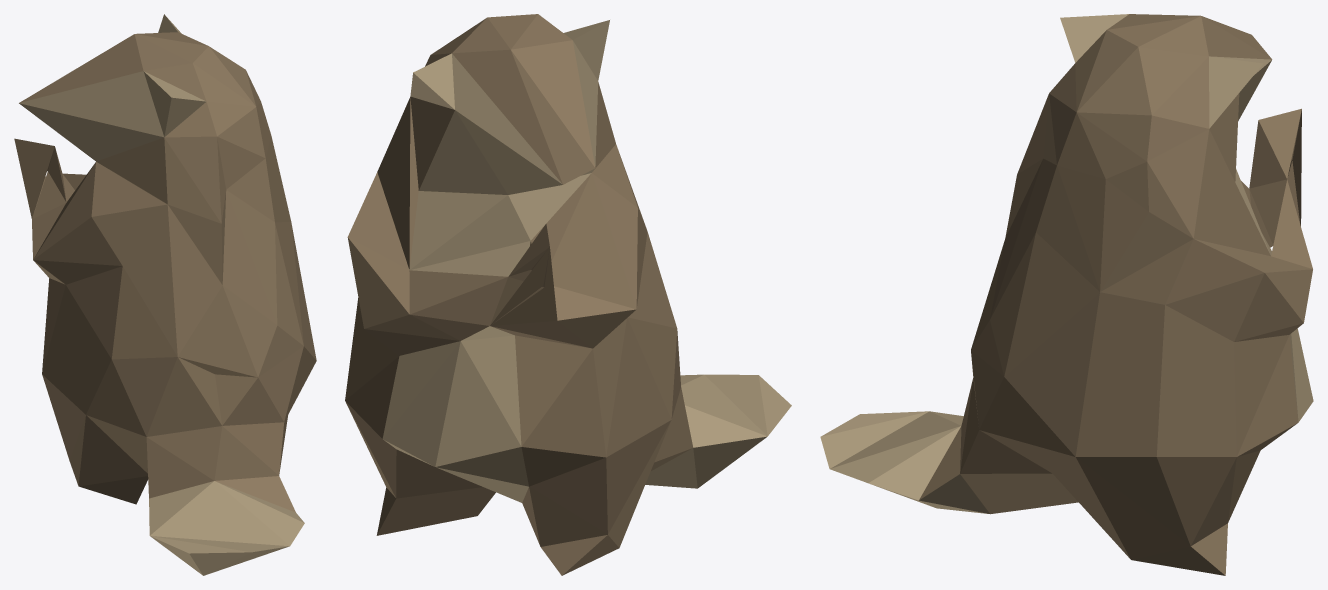
The picture shows the model from 3 angles, left to right: view 1: azimuth 30°, elevation 25°; view 2: azimuth 150°, elevation 25°; view 3: azimuth 270°, elevation 25°; orthographic projection. The views are drawn at different scales.
Parts seen in each view (by area): view 1: lion-200.001; view 2: lion-200.001; view 3: lion-200.001.
Boxes of the visible parts, x1=… form: lion-200.001: x1=14, y1=14, x2=316, y2=575; lion-200.001: x1=345, y1=14, x2=791, y2=575; lion-200.001: x1=820, y1=14, x2=1313, y2=575.
Bounding box in the file's own units: 0.5963 × 1.03 × 0.8863.
